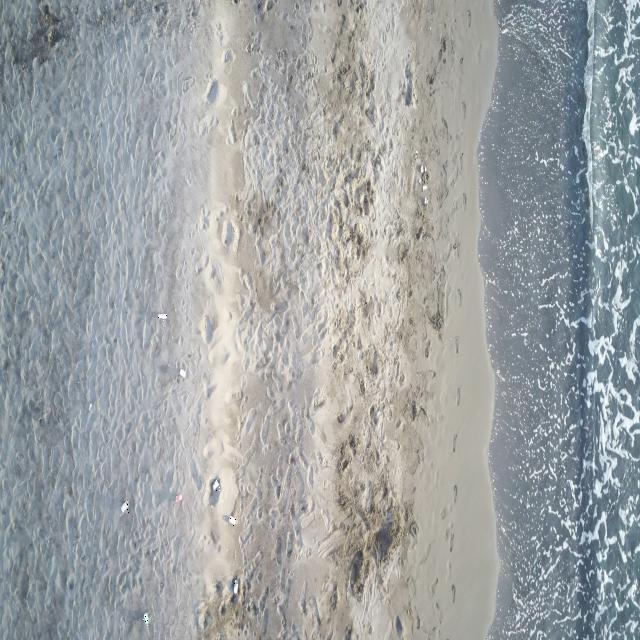Garbage: (208, 476, 220, 506), (232, 576, 238, 595), (212, 477, 219, 492), (120, 500, 128, 512), (226, 515, 236, 524), (179, 367, 186, 377), (156, 312, 166, 319), (175, 493, 181, 503), (143, 612, 148, 624), (420, 163, 426, 172), (423, 183, 427, 191)
